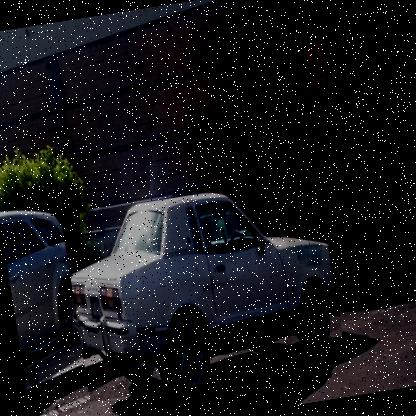Car: (61, 175, 347, 403), (0, 197, 100, 357)
